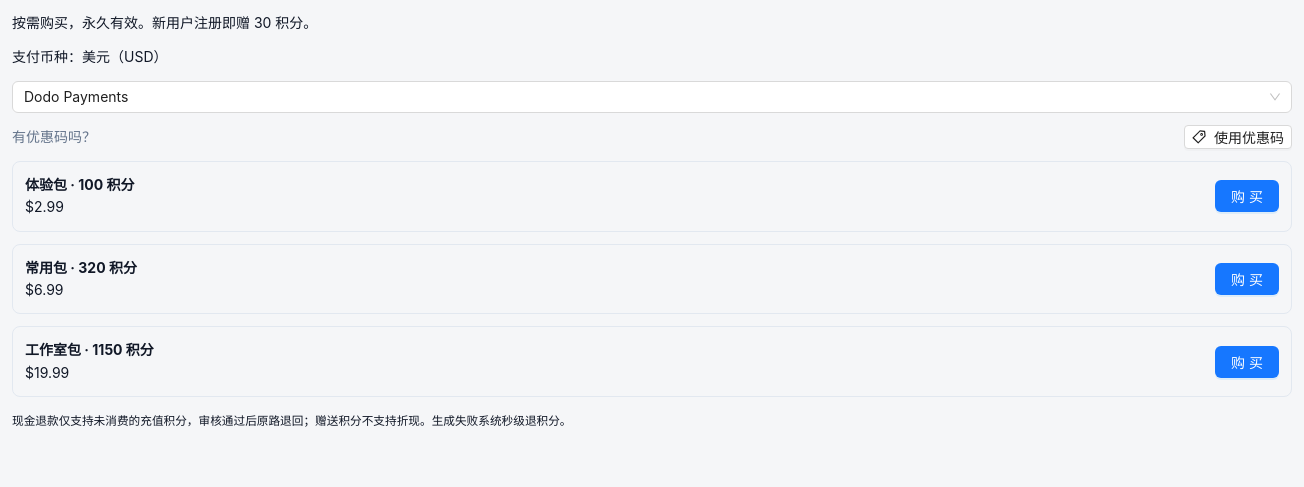
Test: 验证折扣代码 › 未验证成功时切换通道保留代码，并清掉错误，不提示重新验证
Check: the text "支付币种：美元（USD）" is shown, box [12,48,168,65]
Click the button "使用优惠码": {"x": 1238, "y": 137} [1184,125,1292,149]
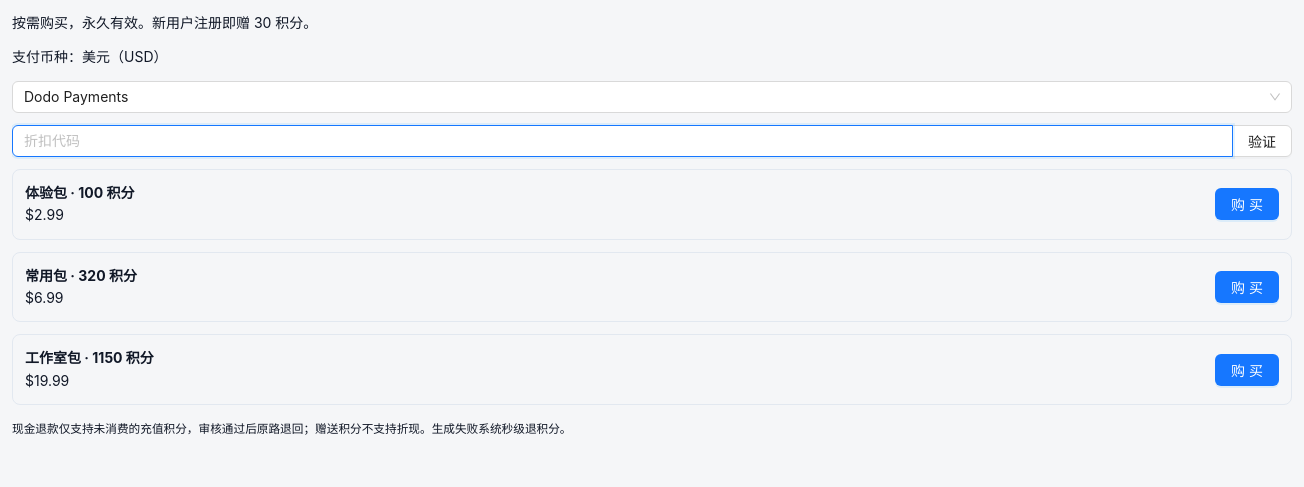
In the field labelled "折扣代码": {"x": 622, "y": 141} [12,125,1233,157], type "ZZTEST999"
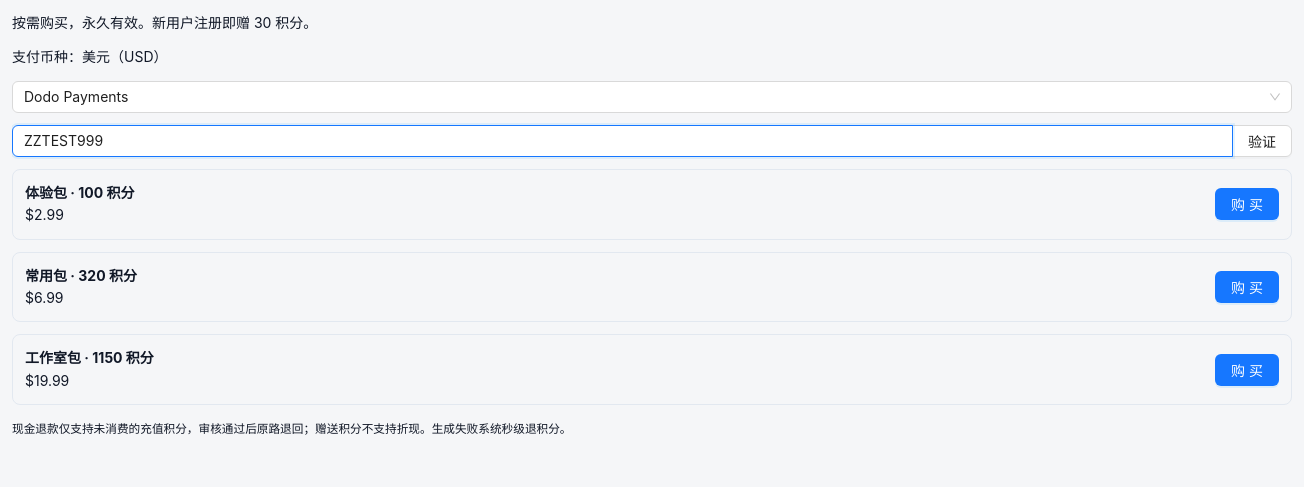
Click the button "验证": {"x": 1262, "y": 141} [1232,125,1292,157]
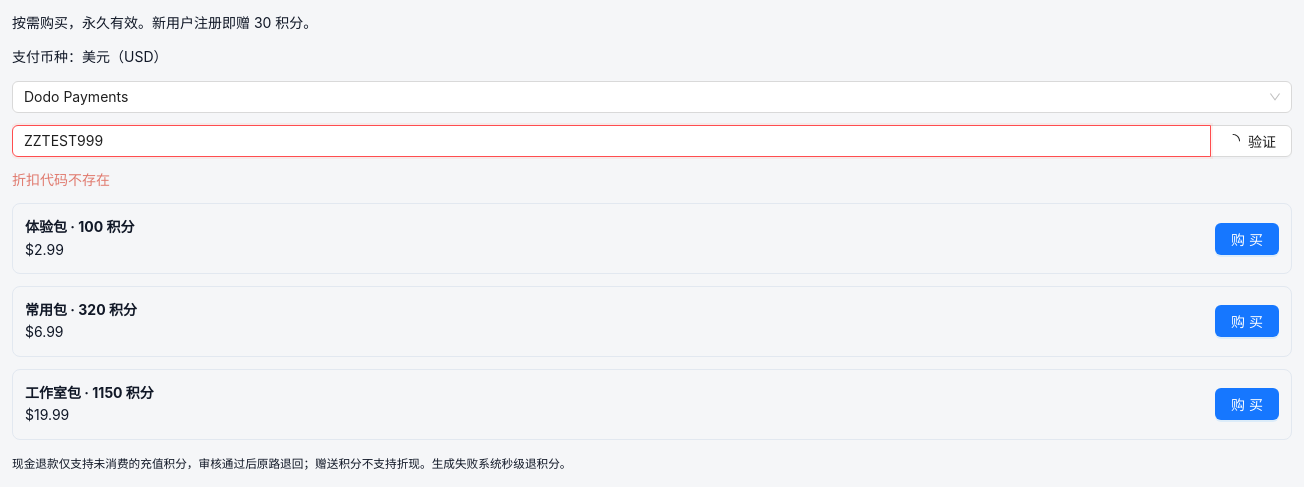
Check: the text "折扣代码不存在" is shown, box [12,171,110,188]
Press the mouse on the dropdown named "付款方式": {"x": 76, "y": 96} [24,88,128,105]
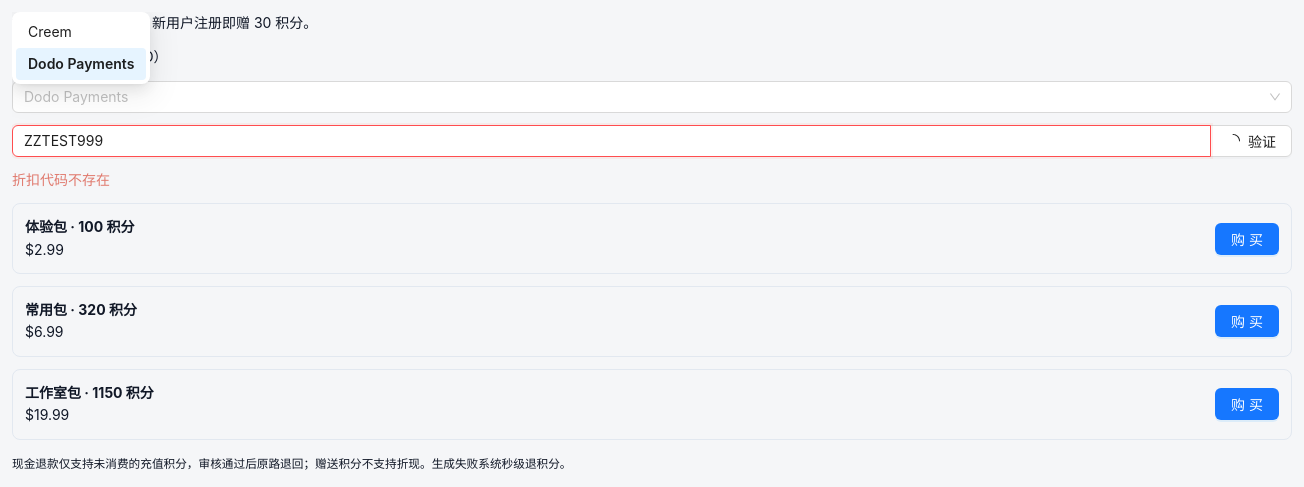
Click the text "Creem": {"x": 50, "y": 32} [28,23,72,40]
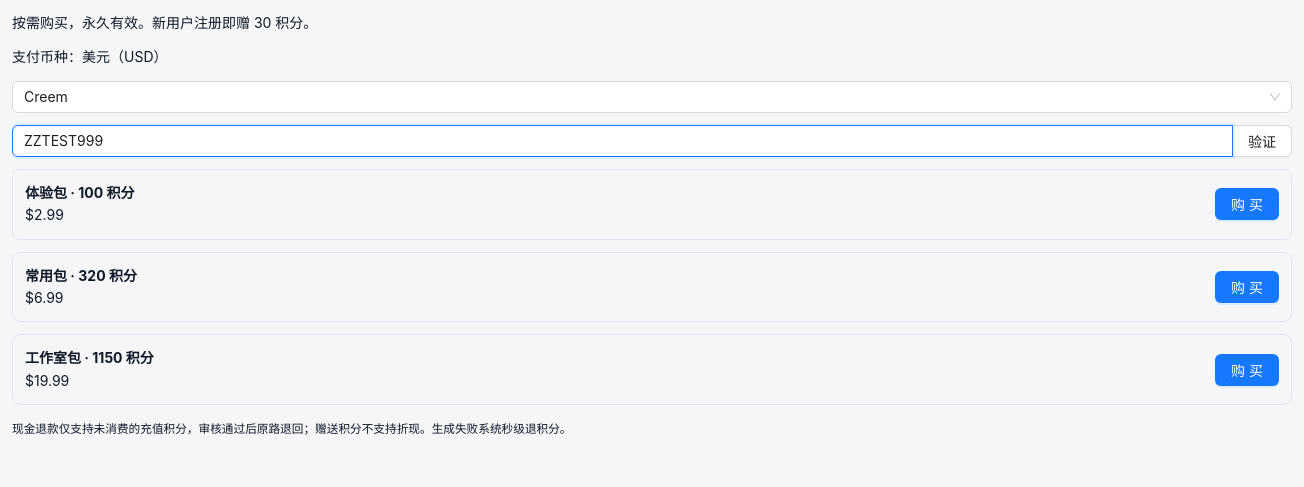
Check: the text "折扣代码不存在" is gone
